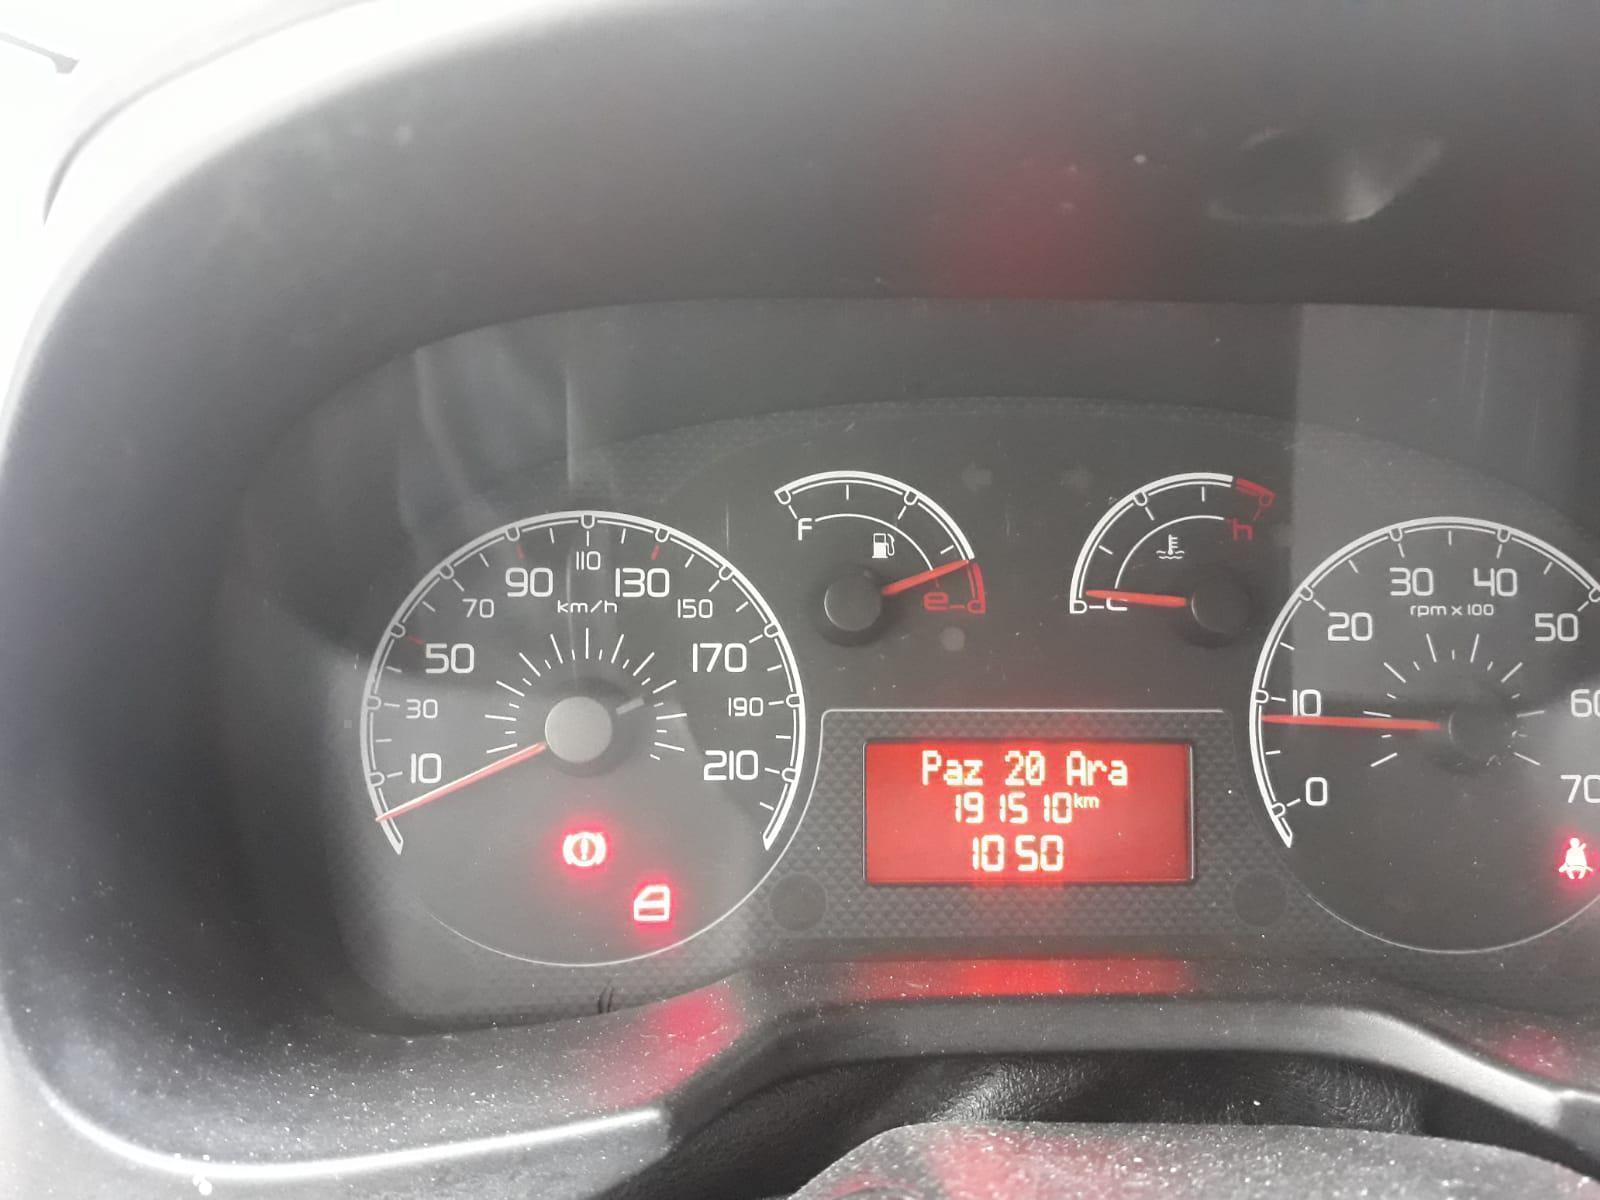0: (980, 834, 1005, 872), (1039, 834, 1065, 872), (1024, 747, 1046, 787), (1051, 790, 1071, 824)
1: (970, 834, 980, 872), (997, 790, 1007, 824), (954, 792, 963, 824), (1041, 792, 1049, 824)
2: (1003, 747, 1026, 787)
5: (1014, 832, 1038, 872), (1007, 790, 1029, 826)
9: (963, 789, 984, 824)
X: (1065, 750, 1087, 787), (920, 747, 941, 785), (1109, 758, 1130, 787), (963, 758, 984, 787), (944, 758, 964, 787), (1087, 758, 1107, 787), (1083, 795, 1099, 811), (1073, 790, 1083, 809)
odometer: (859, 735, 1197, 884)
